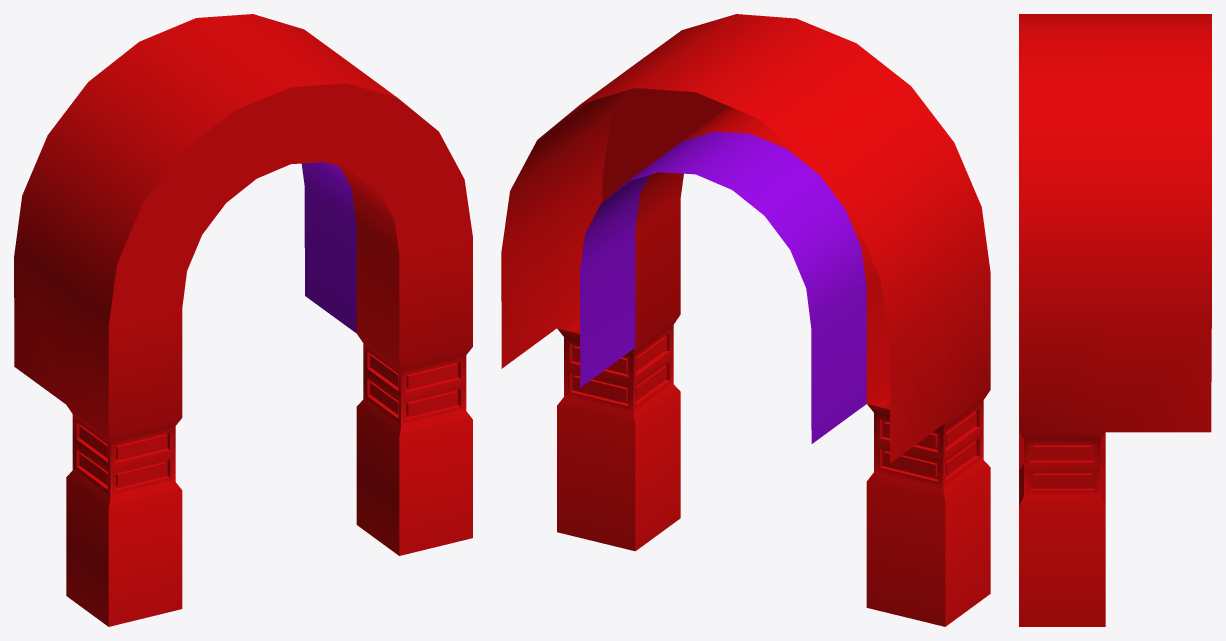
3 views of the same model, side by side, from view 1: azimuth 30°, elevation 25°; view 2: azimuth 150°, elevation 25°; view 3: azimuth 270°, elevation 25° (orthographic). The views are drawn at different scales.
Visible parts, largest first — view 1: Cube.002; view 2: Cube.002; view 3: Cube.002.
Boxes of the visible parts, x1=… form: Cube.002: x1=14, y1=14, x2=472, y2=626; Cube.002: x1=501, y1=14, x2=990, y2=626; Cube.002: x1=1019, y1=14, x2=1211, y2=626.
Size of the model in its own units: 990 by 1285 by 445.
